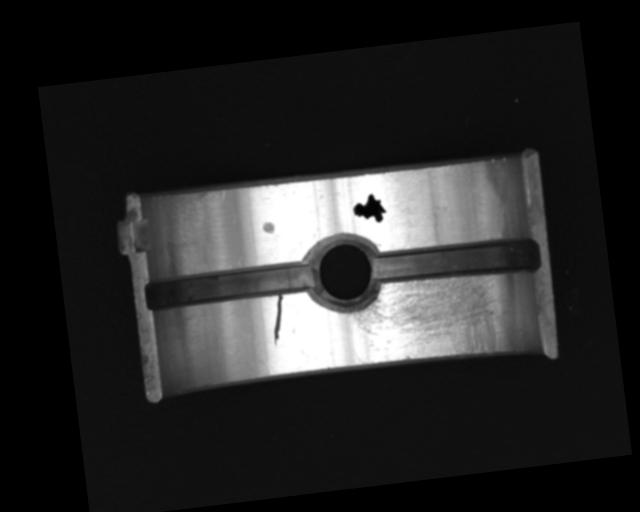blot: (350, 192, 388, 225)
bruise: (261, 220, 276, 235)
gap: (141, 258, 318, 315), (369, 233, 541, 290)
hole: (304, 230, 384, 316)
nick: (266, 293, 289, 348)
scratch: (348, 267, 513, 370)
